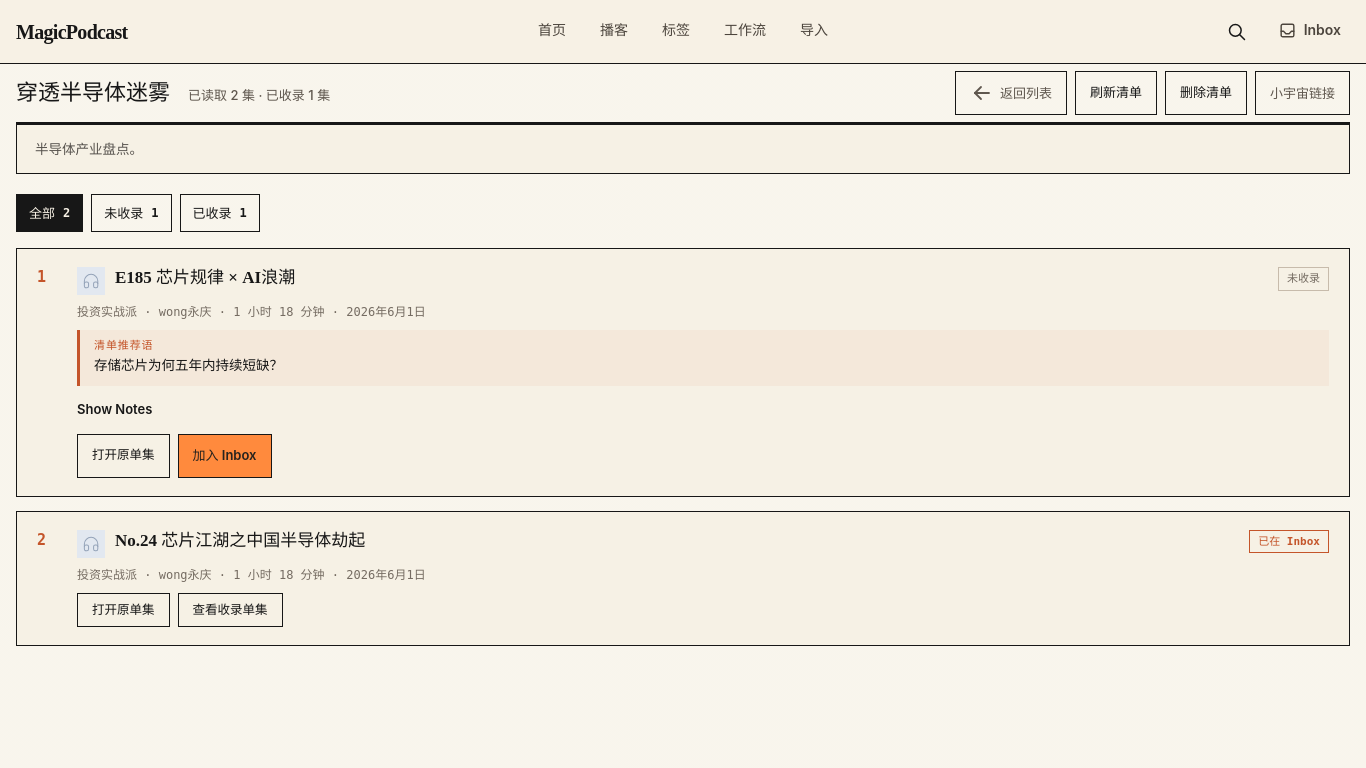
Scenario: CollectionDetailContent › opens show notes and the source episode link
Expected: the link "E185 芯片规律 × AI浪潮" is shown, [115,268,295,287]
Click the heading "Show Notes" at (115, 409), box [77,401,152,417]
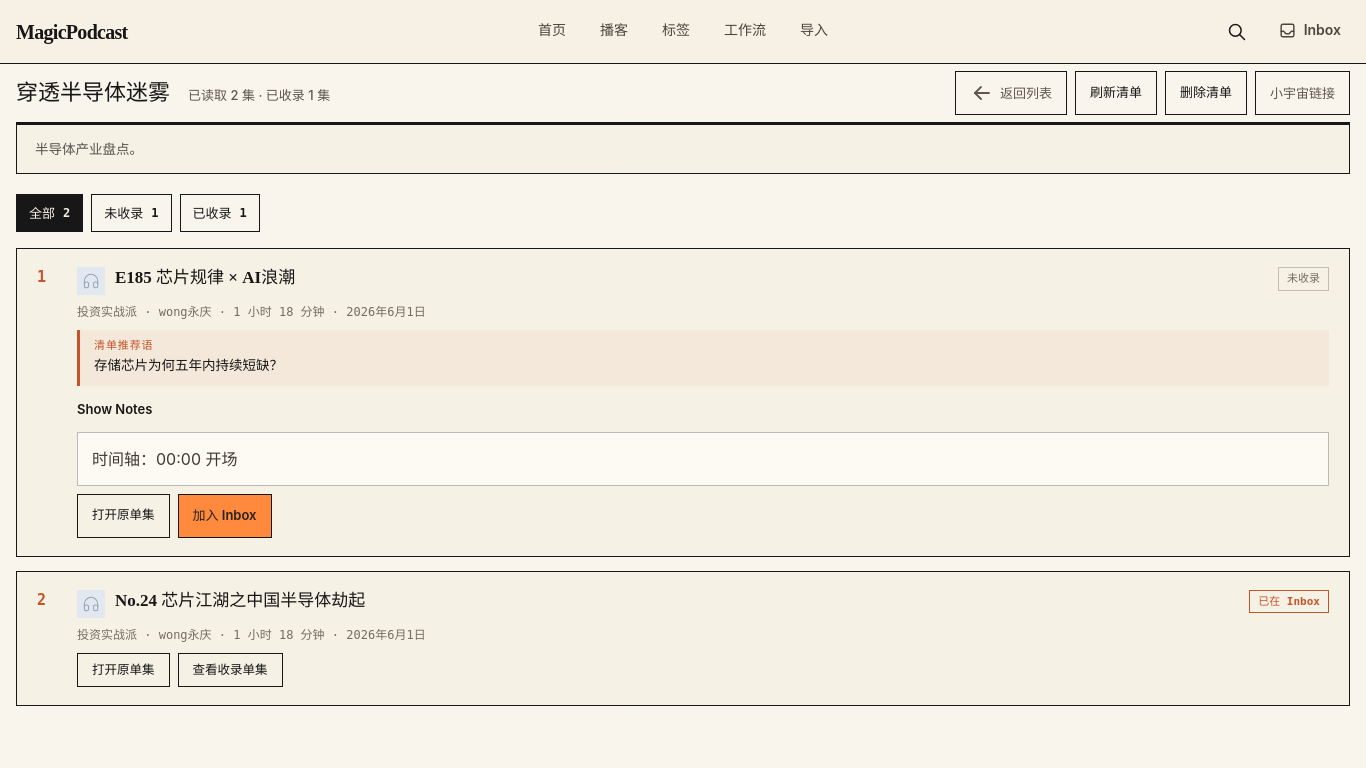
Now the text "时间轴：00:00 开场" is shown, box [92,449,238,469]
